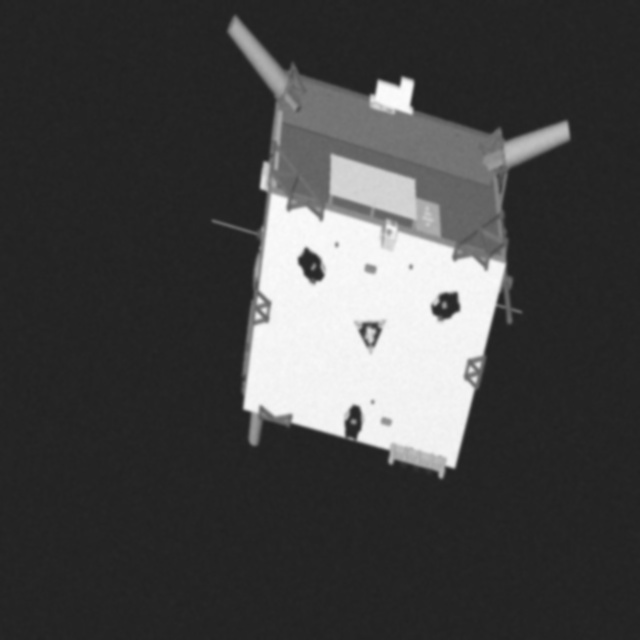medium_debris: (208, 16, 578, 486)
